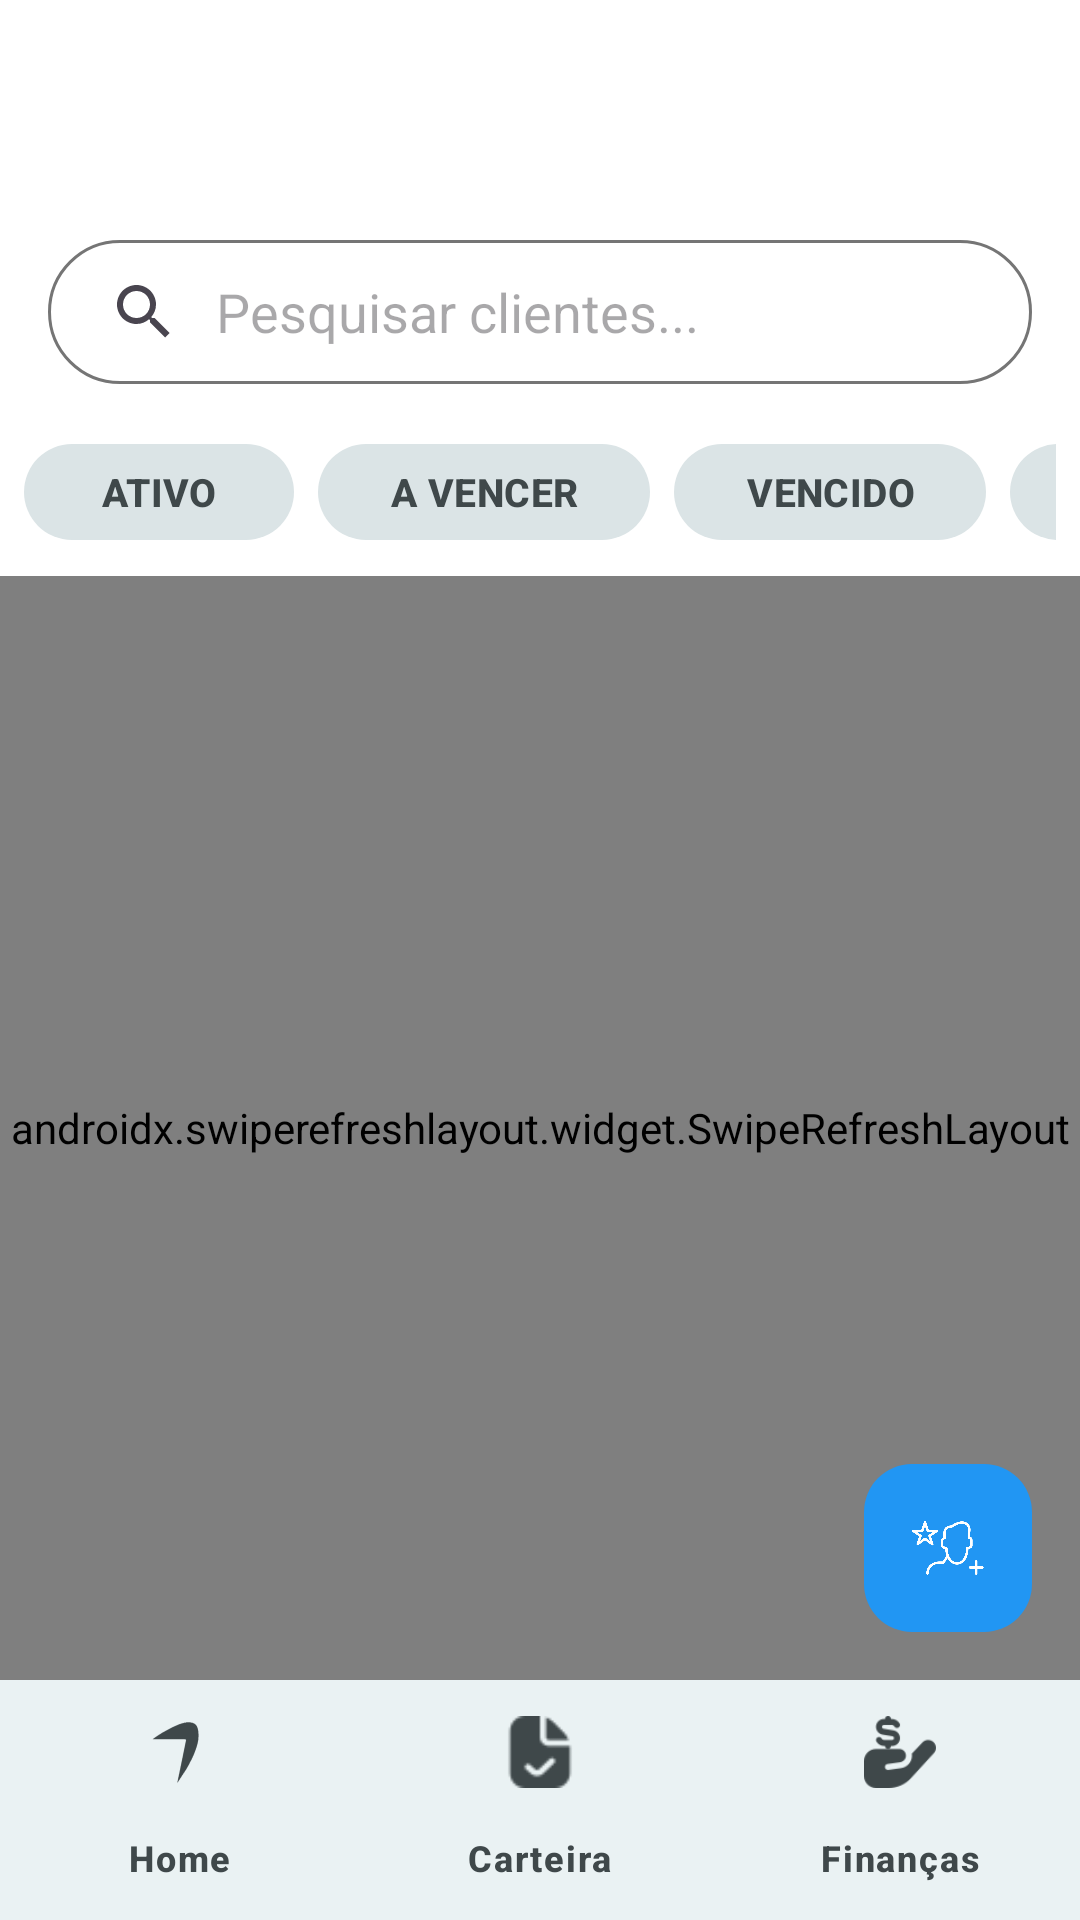

Where to tap for icons on this 1080w x 1920h app screen, as [x,y]:
adduser: [948,1548]
